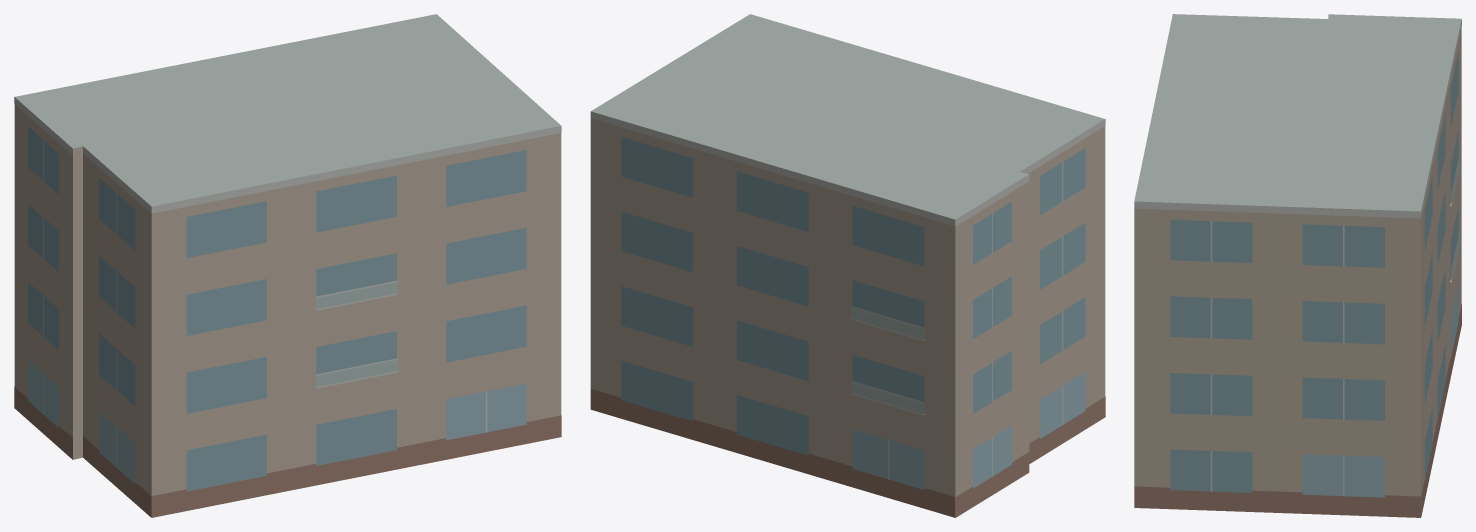
The model's file is survey-upis-32990242.glb.
The picture shows the model from 3 angles, left to right: view 1: azimuth 30°, elevation 25°; view 2: azimuth 150°, elevation 25°; view 3: azimuth 270°, elevation 25°; orthographic projection. The views are drawn at different scales.
Visible parts, largest first — view 1: survey-upis-32990242.tmp; view 2: survey-upis-32990242.tmp; view 3: survey-upis-32990242.tmp.
Part boxes in pixels (x1,y1,x2,y2): survey-upis-32990242.tmp: (14, 14, 561, 517); survey-upis-32990242.tmp: (590, 14, 1105, 517); survey-upis-32990242.tmp: (1134, 14, 1461, 517).
Size of the model in its own units: 14.8 by 10.7 by 10.38.
